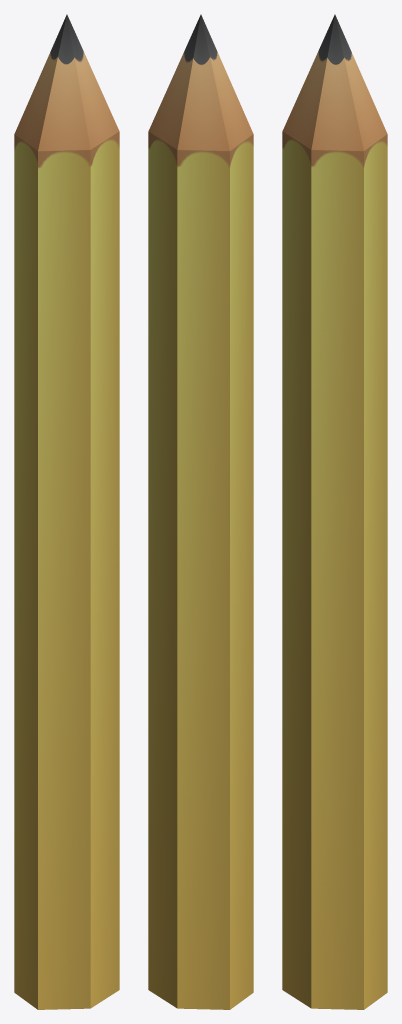
Rendered from pencil.fbx.
3 views of the same model, side by side, from view 1: azimuth 30°, elevation 25°; view 2: azimuth 150°, elevation 25°; view 3: azimuth 330°, elevation 25° (orthographic).
Parts seen in each view (by area): view 1: Cylinder_001; view 2: Cylinder_001; view 3: Cylinder_001.
Boxes of the visible parts, left/top/right/bottom form: Cylinder_001: left=14, top=14, right=119, bottom=1009; Cylinder_001: left=148, top=14, right=253, bottom=1009; Cylinder_001: left=282, top=14, right=387, bottom=1009.
Size of the model in its own units: 8 by 91.67 by 8.
1 material, 1 textured.
